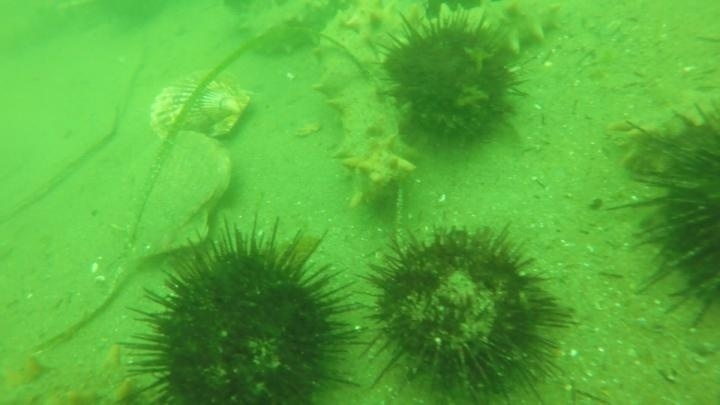echinus: (121, 214, 366, 405), (357, 218, 573, 400), (616, 95, 720, 314), (377, 11, 529, 158)
holothurian: (312, 3, 418, 214), (3, 341, 159, 404), (419, 1, 568, 59), (610, 90, 720, 147), (234, 1, 338, 60), (331, 1, 432, 60)
scallop: (94, 128, 238, 264), (144, 61, 258, 147)
